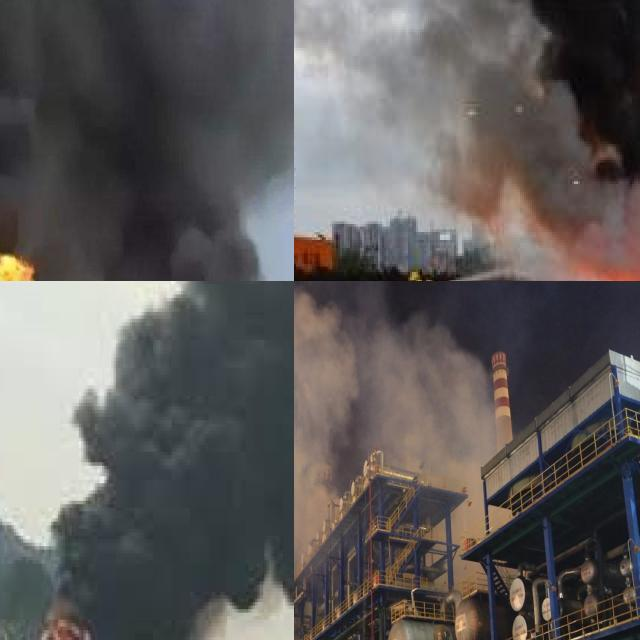fire: (582, 192, 640, 281), (25, 595, 101, 640), (0, 244, 41, 281)
smoke: (48, 281, 294, 640), (314, 0, 640, 261), (0, 0, 294, 281), (294, 281, 516, 598)
